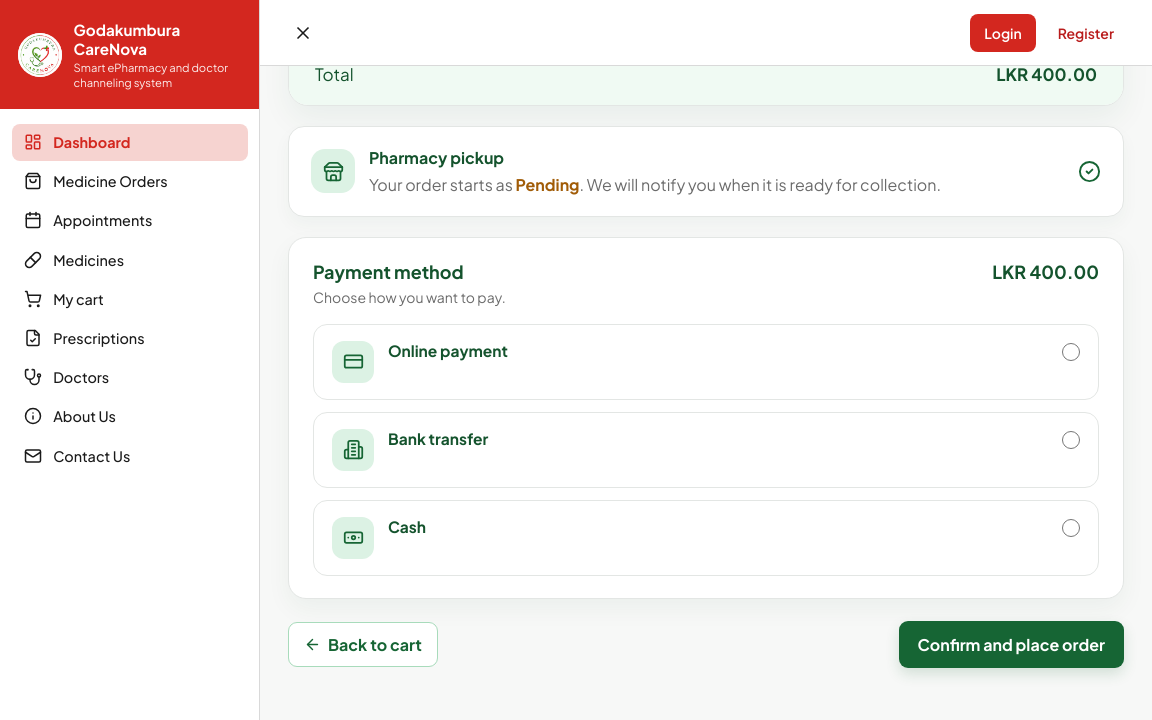
it: checkout and order tracking pages › shows the server message when the order is rejected with a conflict
The width and height of the screenshot is (1152, 720).
(page scrolled)
Click the radio button labelled "Cash": coordinates (1071, 528) [1062,519,1080,537]
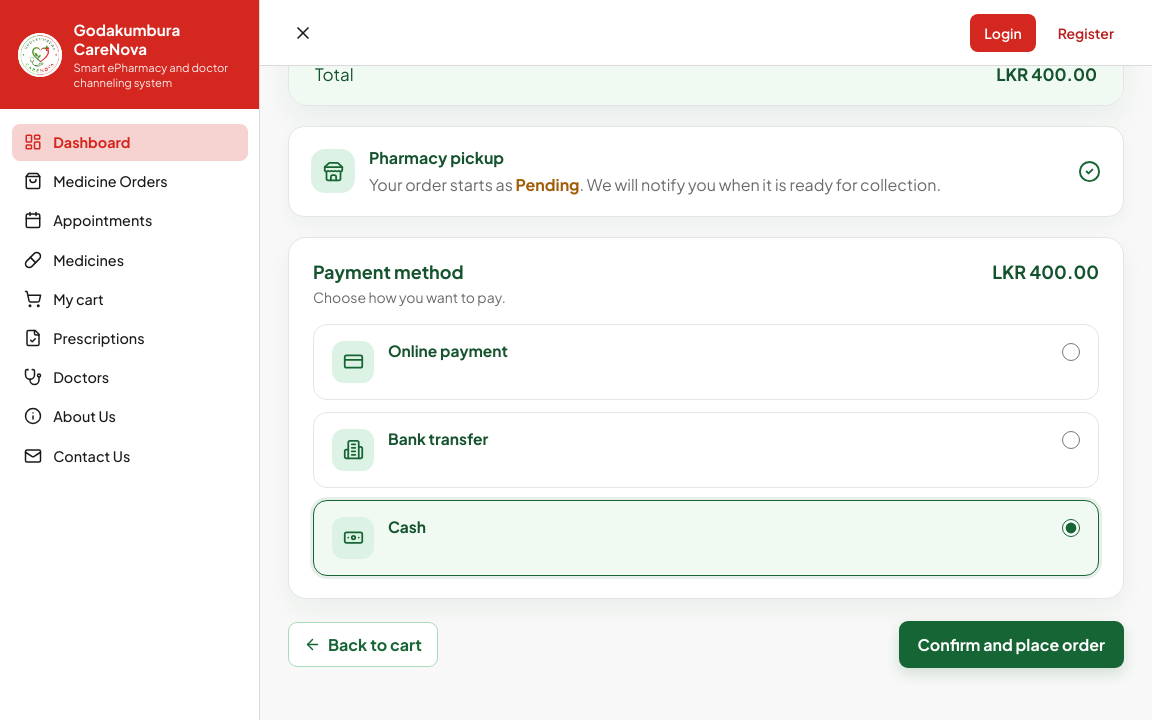
Click the button "Confirm and place order": coordinates (1011, 644) [898,621,1124,668]
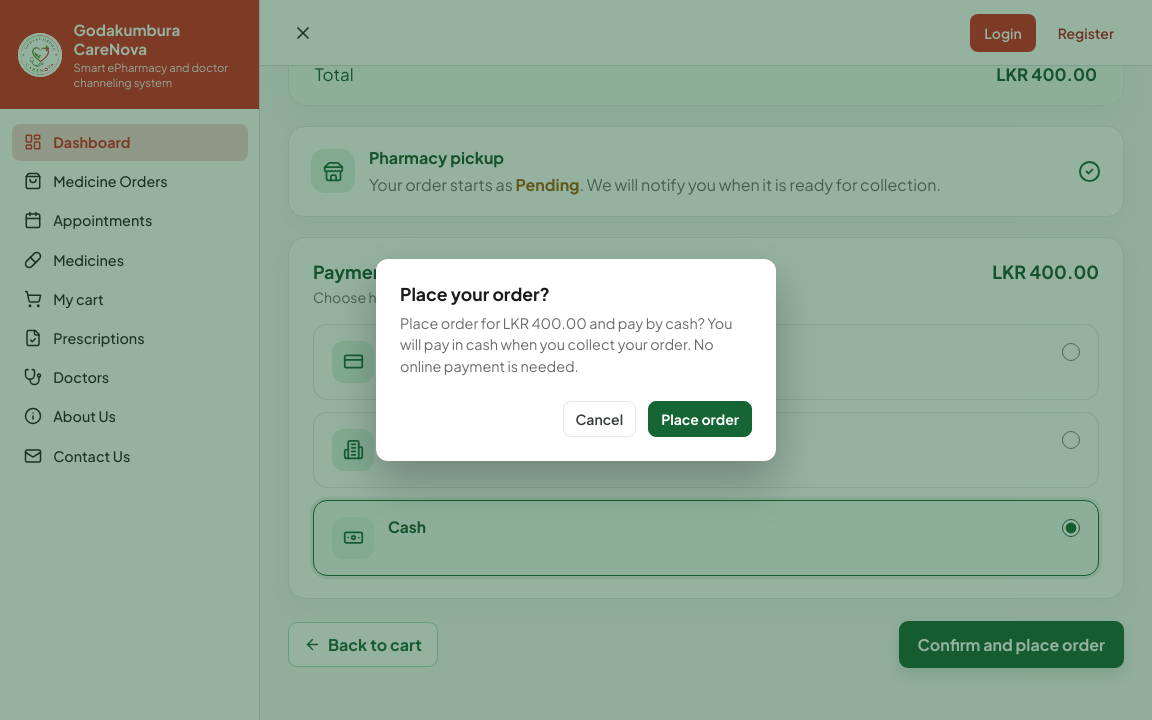
Click the button "Place order": coordinates (700, 419) [648,401,752,437]
(page scrolled)
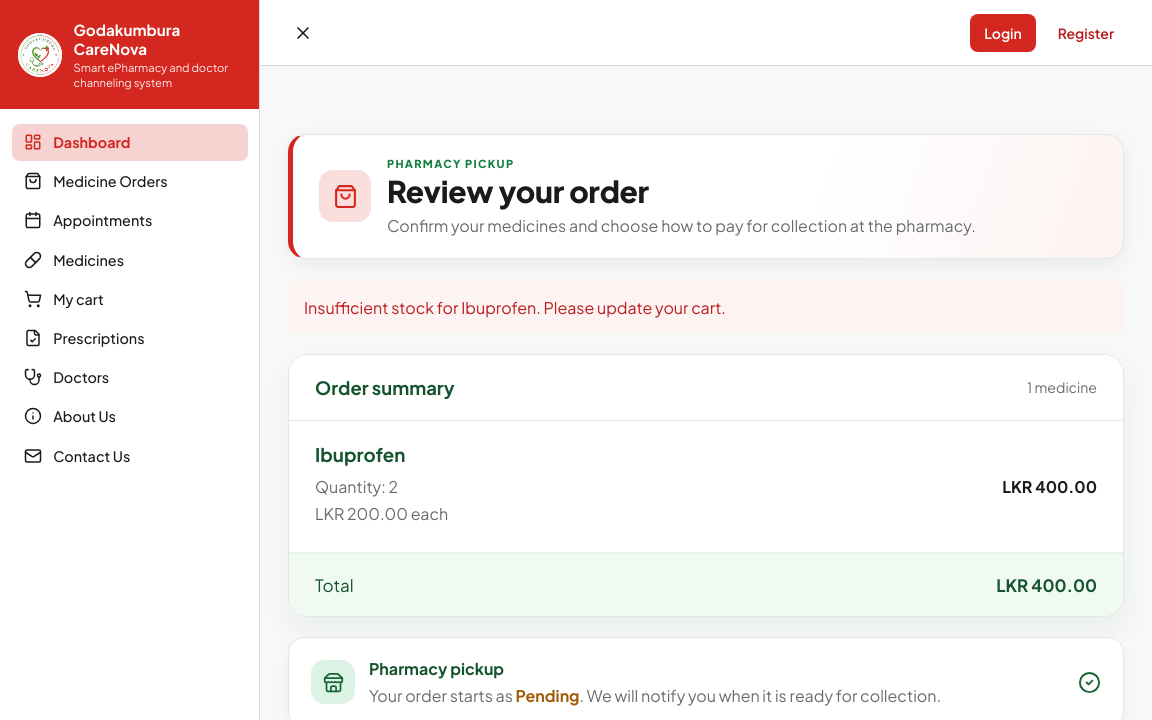
Check: the text "Insufficient stock for Ibuprofen. Please update your cart." is shown, box [288,281,1124,334]
